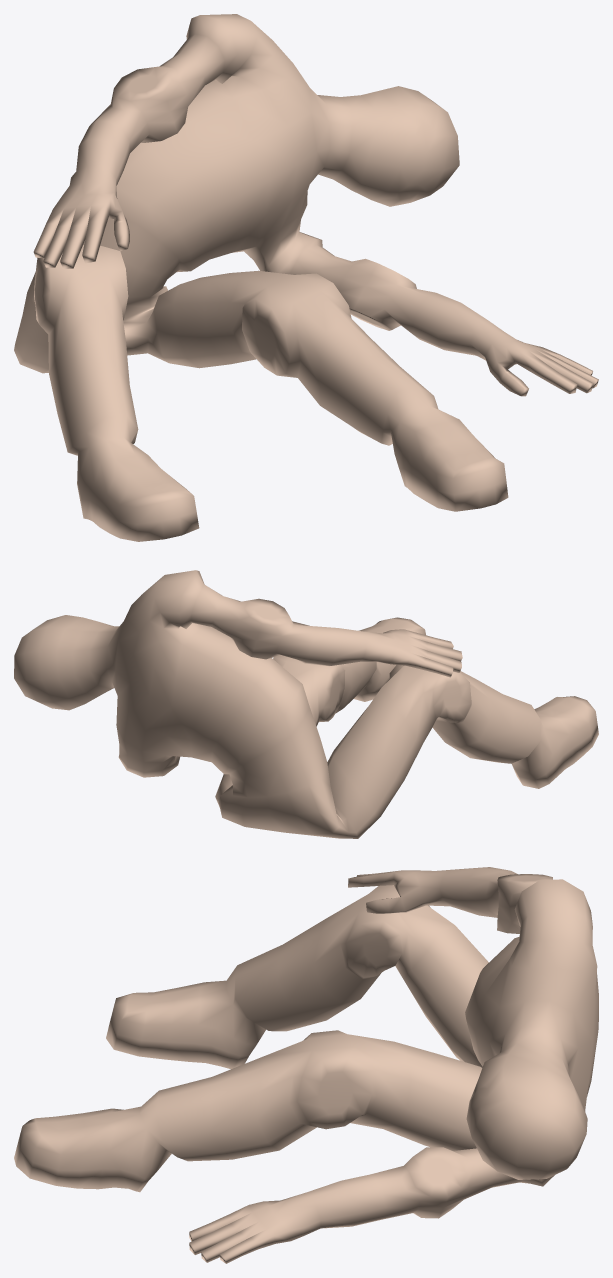
Rendered from ded.fbx.
The picture shows the model from 3 angles, top to bottom: view 1: azimuth 30°, elevation 25°; view 2: azimuth 150°, elevation 25°; view 3: azimuth 270°, elevation 25°; orthographic projection. The views are drawn at different scales.
Visible parts, largest first — view 1: RobotHumanoid:robot; view 2: RobotHumanoid:robot; view 3: RobotHumanoid:robot.
Part boxes in pixels (box(x1,y1,x2,y2)): RobotHumanoid:robot: box(14, 14, 598, 541); RobotHumanoid:robot: box(14, 570, 598, 838); RobotHumanoid:robot: box(14, 867, 598, 1263).
Size of the model in its own units: 110 by 63.9 by 108.
